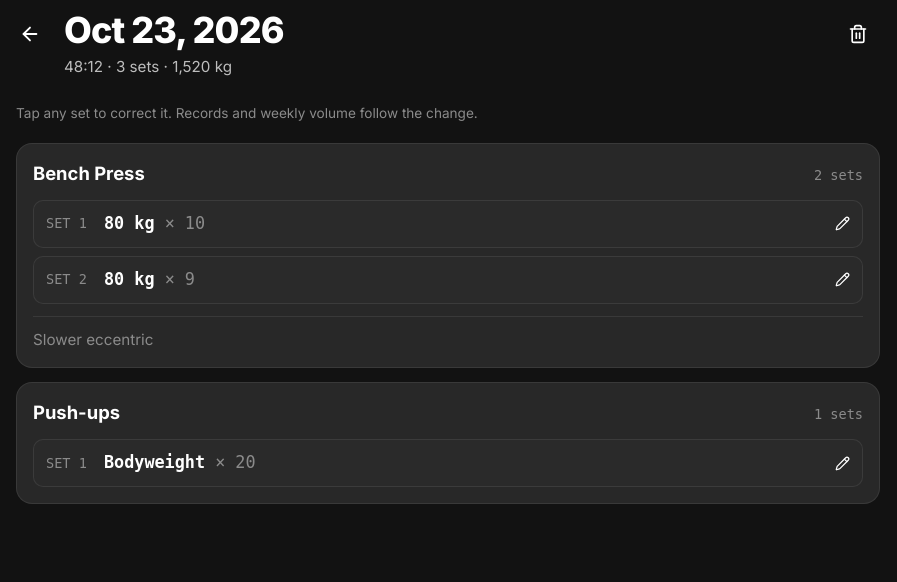
Test: MobileSessionDetail › names the record that fell
This screenshot has width=897, height=582.
Click the button with aria-label "Edit set 1 of Bench Press" at [62, 223], box [33,200,863,248]
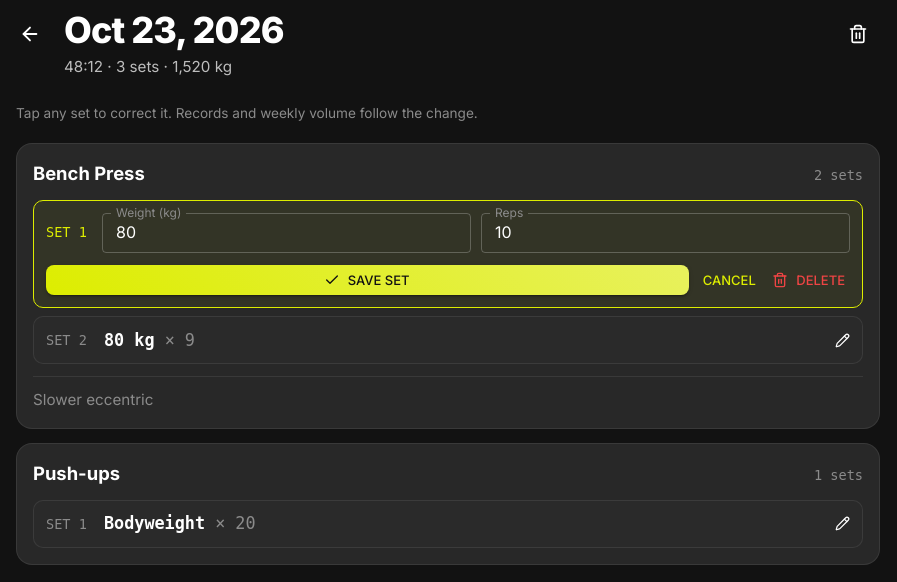
Click the button "Save set" at [368, 280], box [46,265,689,295]
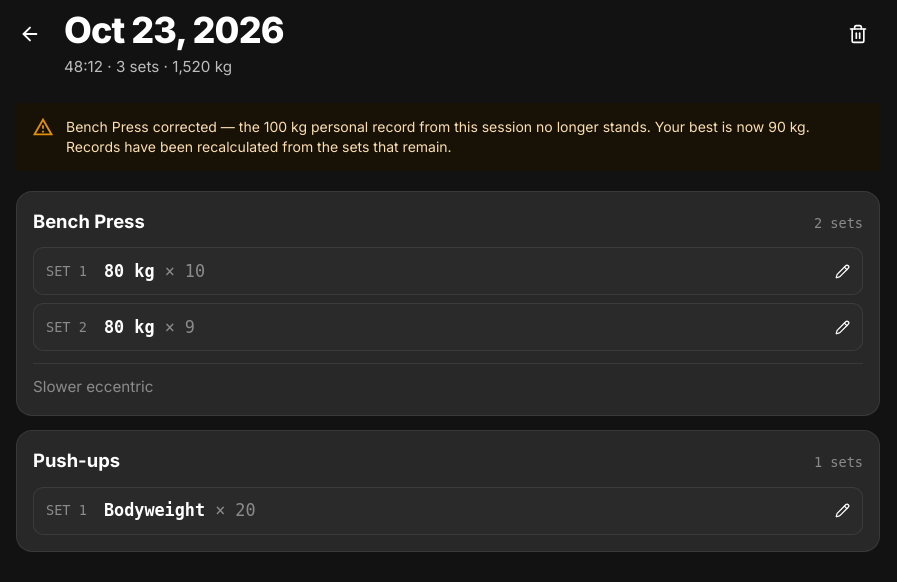
Expected: the text "100 kg personal record from this session no longer stands" is shown, [66,118,810,155]
